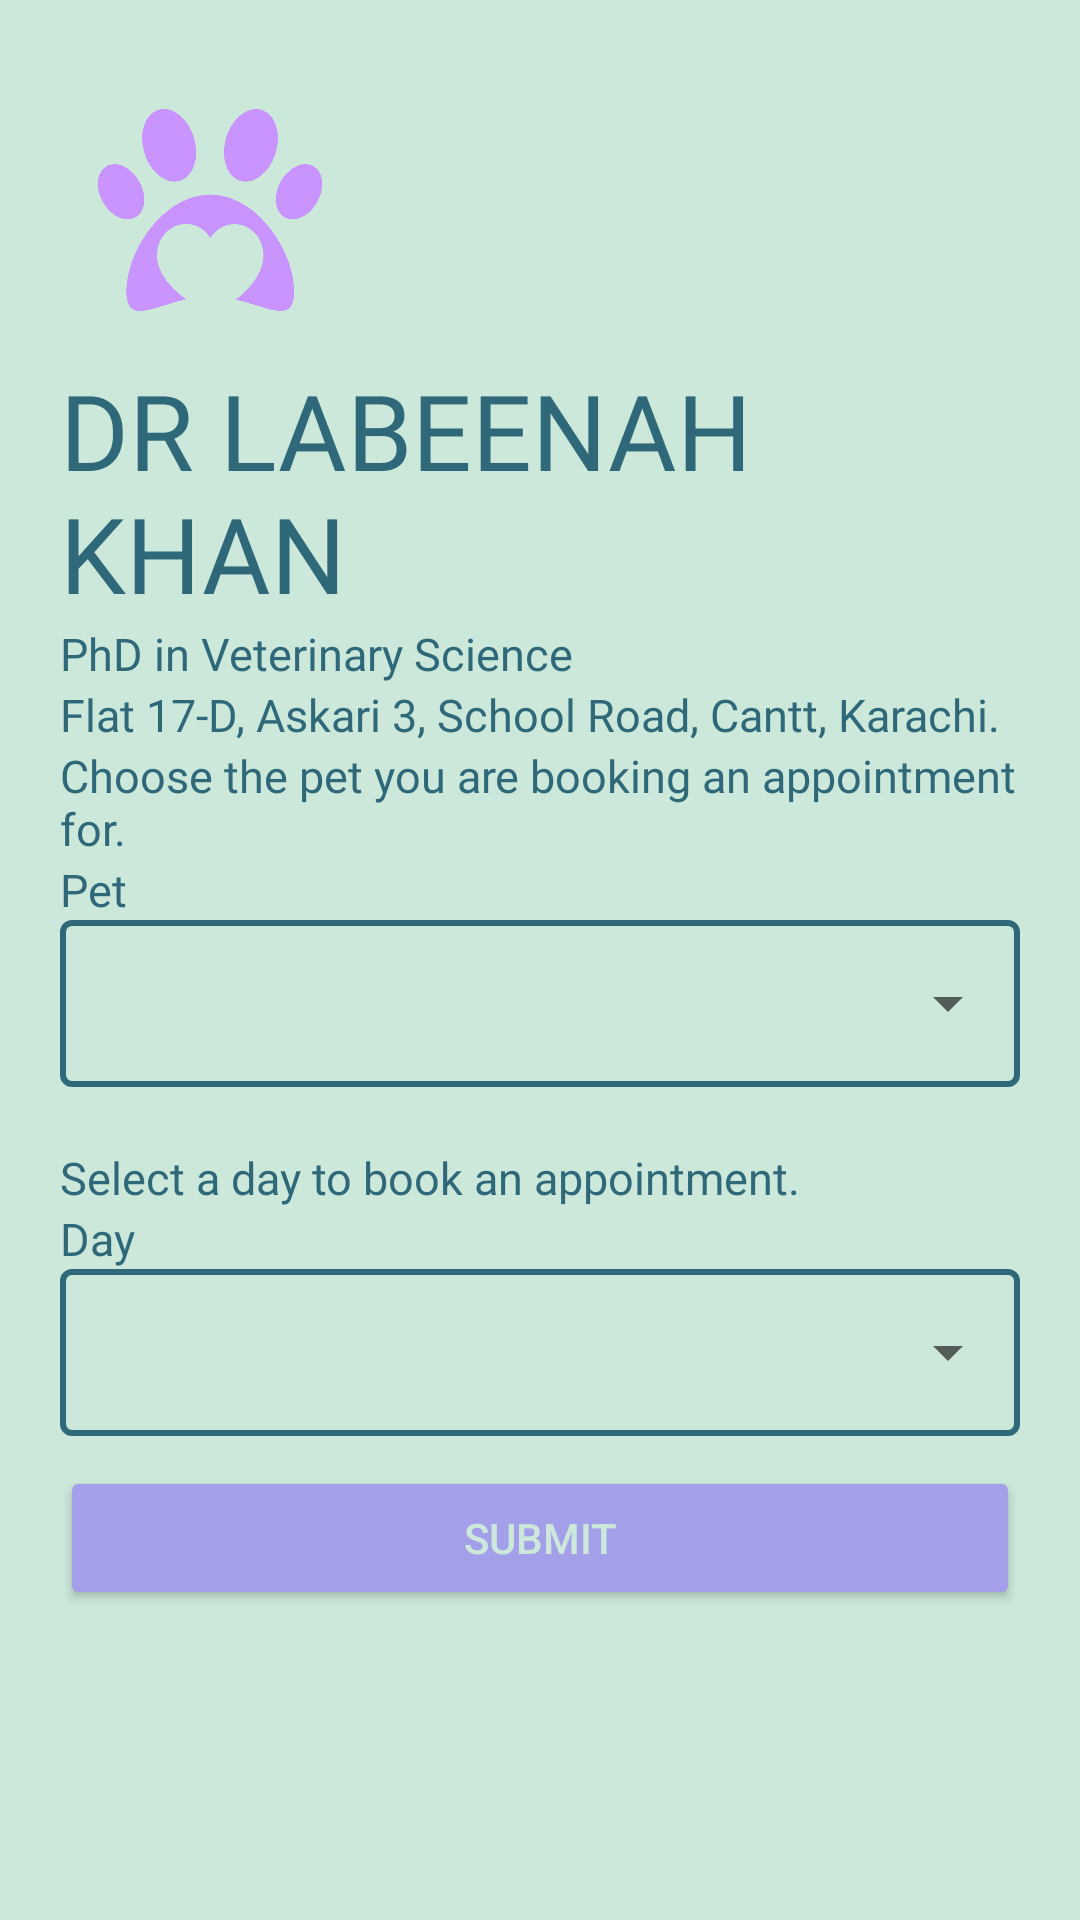

Icons on this 1080 × 1920 Android screen, each with its box as [x1,y1,x2,y2]:
paw: [98,109,322,311]
